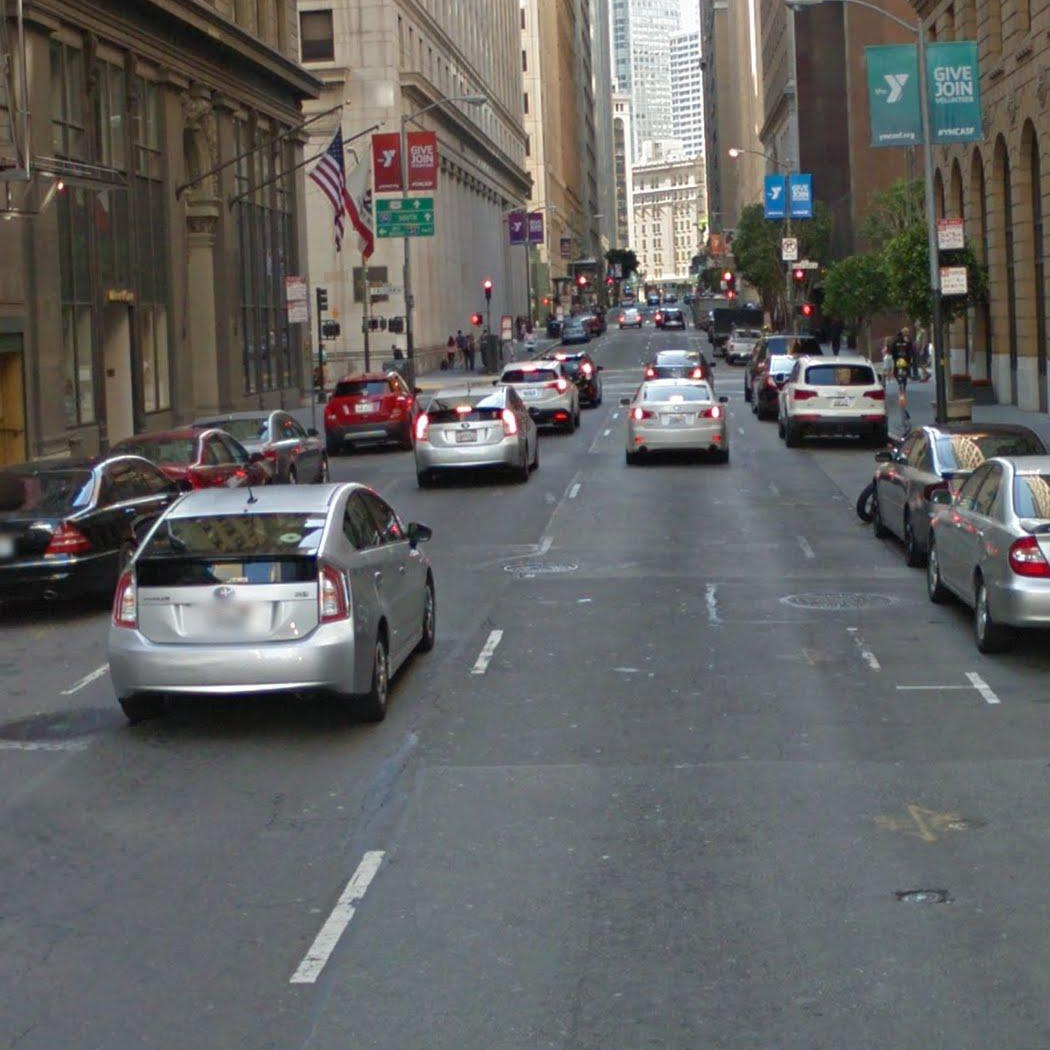No Parking: (939, 267, 969, 296)
